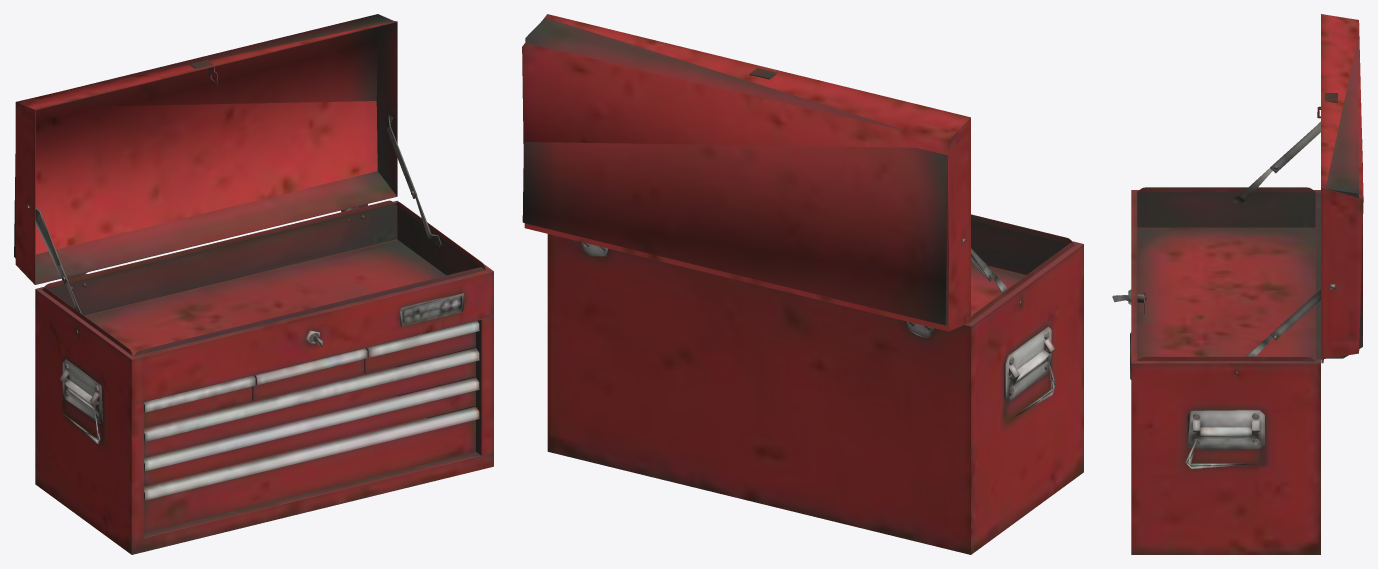
Rendered from metal_tool_chest.glb.
The picture shows the model from 3 angles, left to right: view 1: azimuth 30°, elevation 25°; view 2: azimuth 150°, elevation 25°; view 3: azimuth 270°, elevation 25°; orthographic projection. The views are drawn at different scales.
Visible parts, largest first — view 1: metal_tool_chest_chest, metal_tool_chest_chest_lo; view 2: metal_tool_chest_chest; view 3: metal_tool_chest_chest, metal_tool_chest_chest_lo.
Part boxes in pixels (left/top/right/bottom): metal_tool_chest_chest: left=14, top=14, right=493, bottom=554; metal_tool_chest_chest_lo: left=35, top=126, right=417, bottom=343; metal_tool_chest_chest: left=522, top=14, right=1083, bottom=554; metal_tool_chest_chest: left=1112, top=14, right=1363, bottom=554; metal_tool_chest_chest_lo: left=1187, top=127, right=1320, bottom=449.
Size of the model in its own units: 0.6841 by 0.6518 by 0.4037.
1 material, 1 textured.
